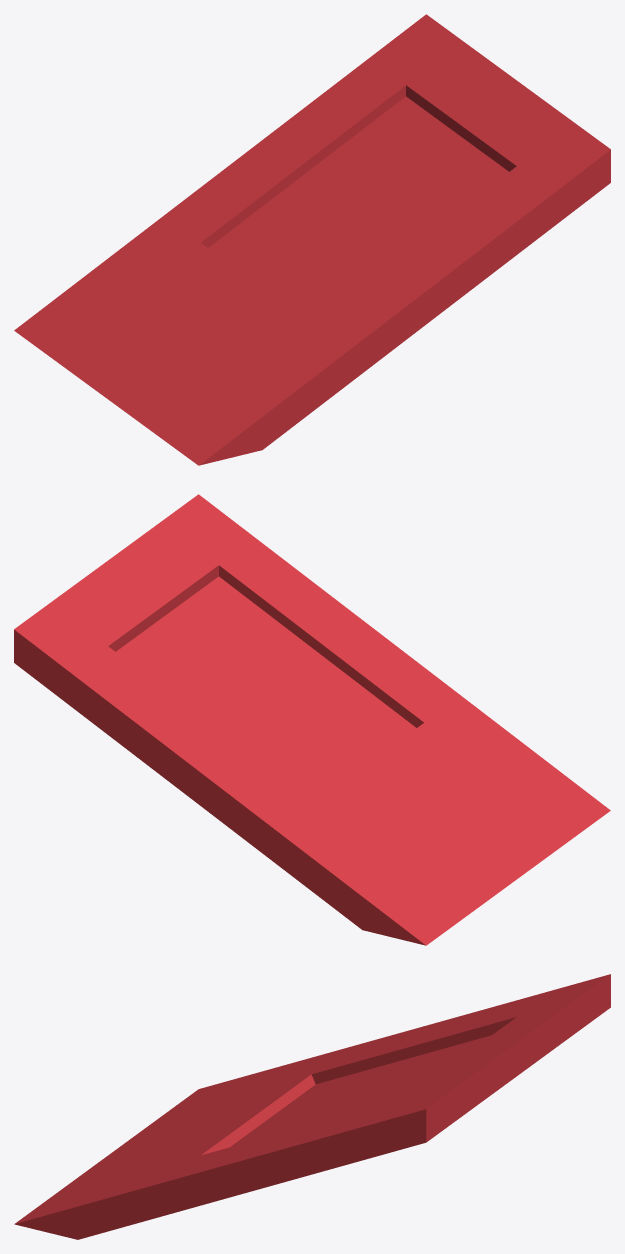
The model's file is roof_small_skylight_1.glb.
3 renders of one model, top to bottom at view 1: azimuth 30°, elevation 25°; view 2: azimuth 150°, elevation 25°; view 3: azimuth 330°, elevation 25°, orthographic.
Visible parts, largest first — view 1: roof_small_skylight_1; view 2: roof_small_skylight_1; view 3: roof_small_skylight_1.
Part boxes in pixels (x1,y1,x2,y2): roof_small_skylight_1: (14,14,610,465); roof_small_skylight_1: (14,494,610,945); roof_small_skylight_1: (14,974,610,1239).
Bounding box in the file's own units: 1.29 × 0.6447 × 1.
